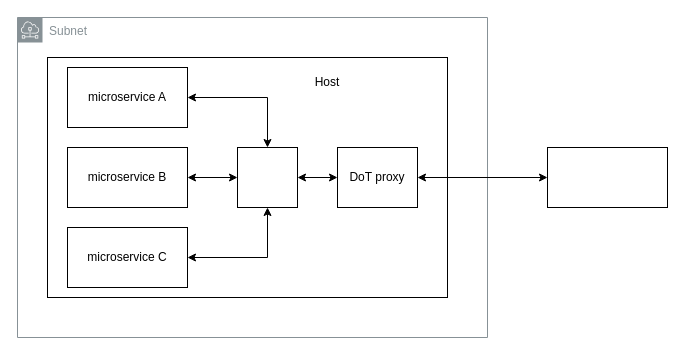
Image size: 685x355. Some labels were removed from this diagram. Each missing label, with the centre of its shape:
Dot provider: point 607,177
port 53: point 267,177
